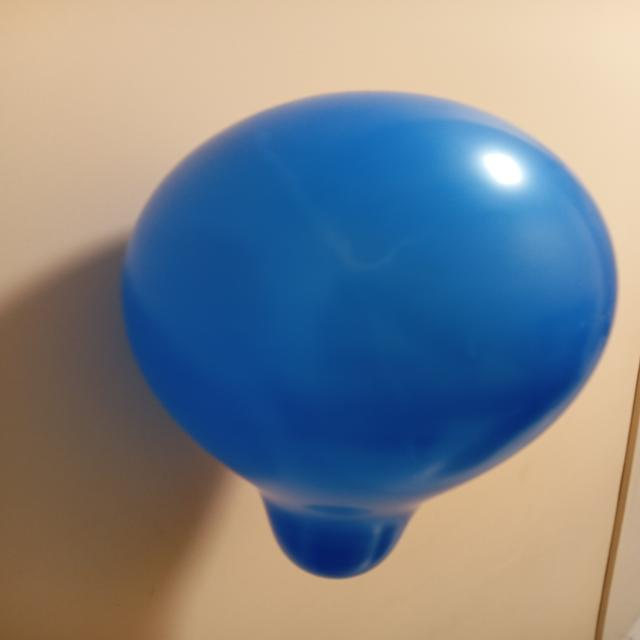balloon: (122, 92, 616, 578)
